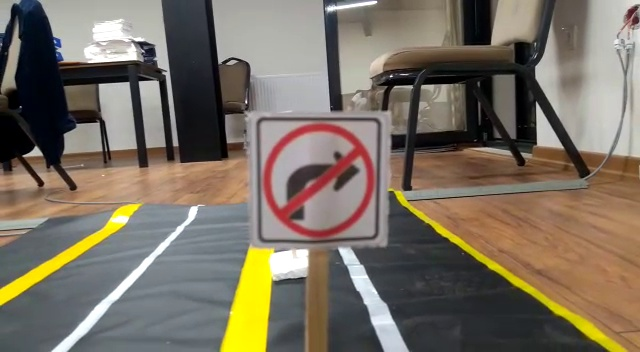saga_donulmez: (259, 119, 379, 240)
